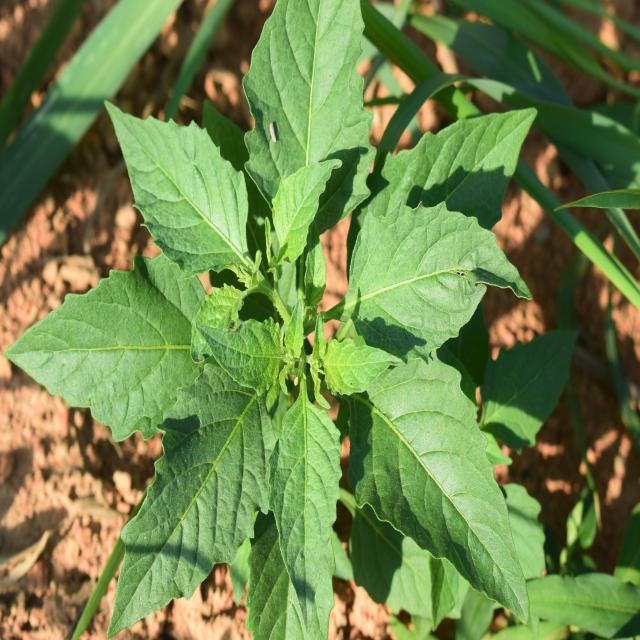Black_nightshade: (71, 40, 516, 616)
